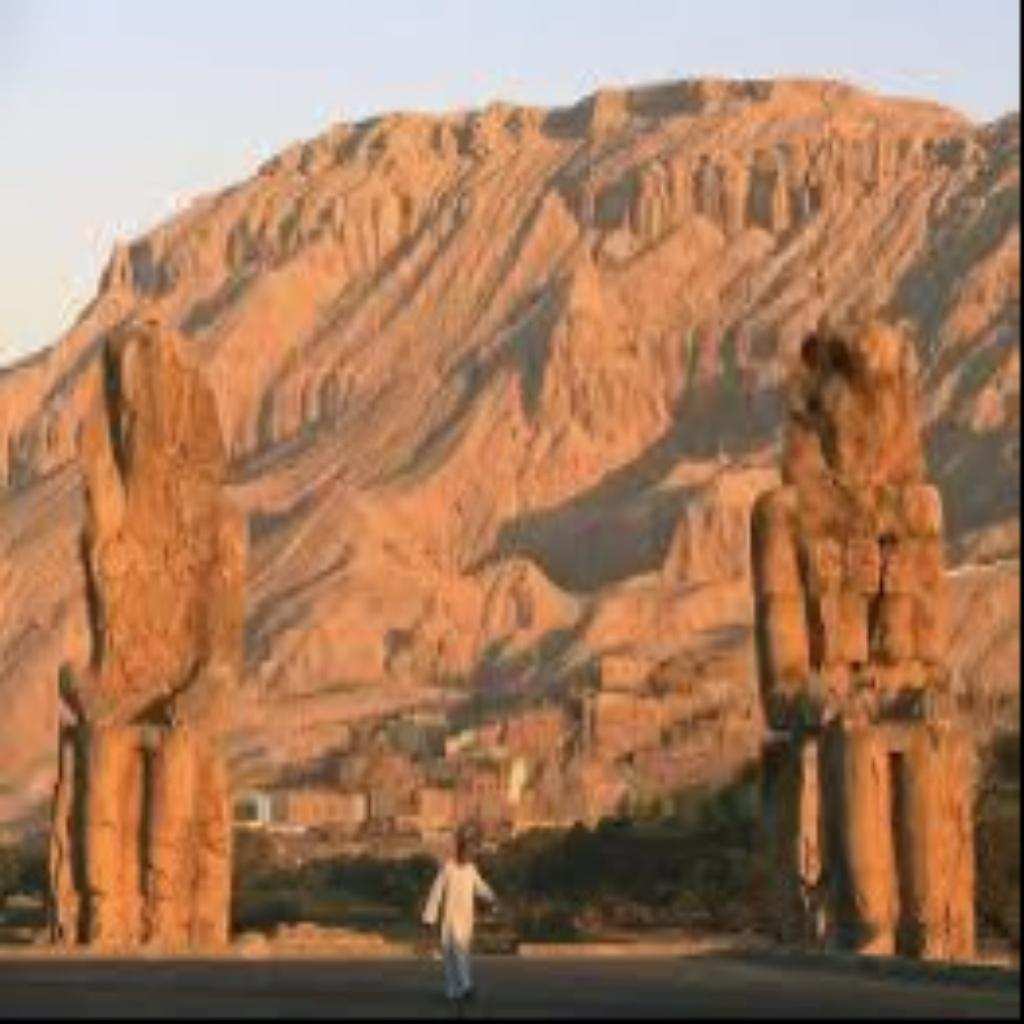Colossoi of Memnon: (743, 304, 981, 960), (51, 326, 254, 954)
